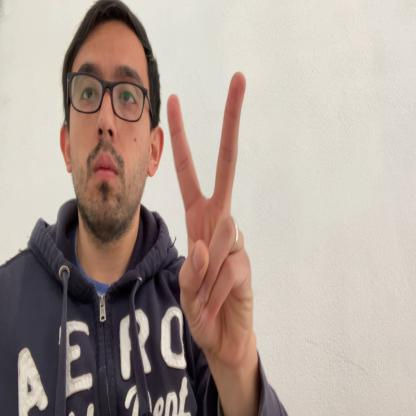V: (166, 70, 254, 368)
